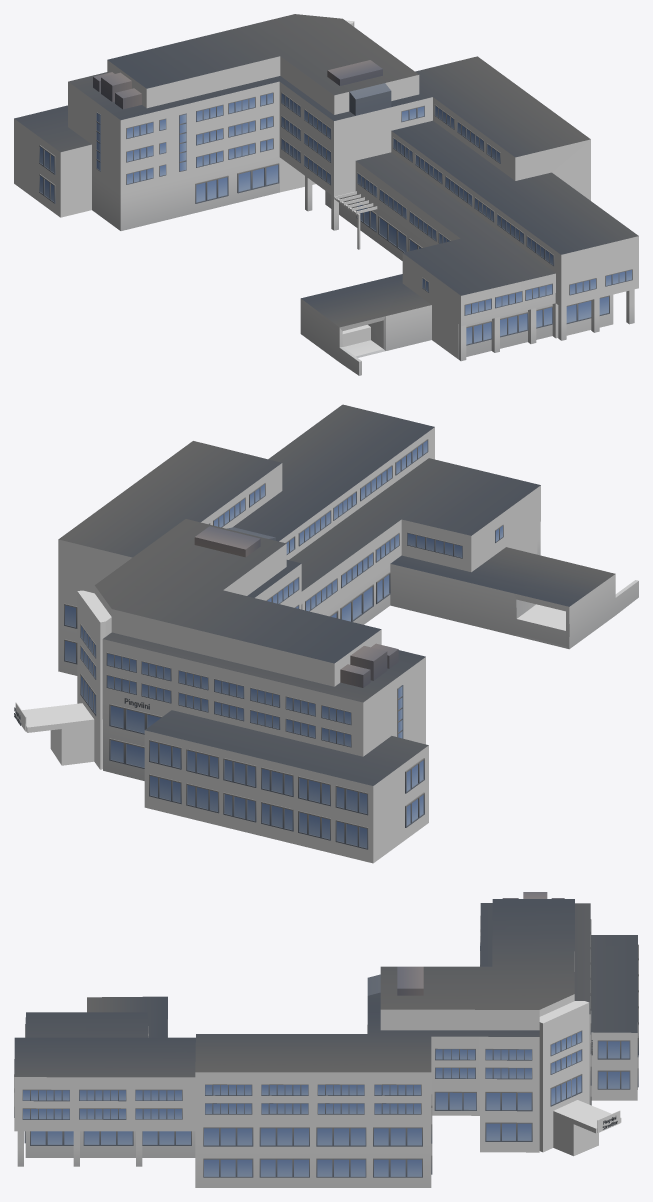
The model's file is pingviini_bar.fbx.
3 views of the same model, one above another, from view 1: azimuth 30°, elevation 25°; view 2: azimuth 150°, elevation 25°; view 3: azimuth 270°, elevation 25° (orthographic). The views are drawn at different scales.
Parts seen in each view (by area): view 1: pingviini_bar; view 2: pingviini_bar; view 3: pingviini_bar.
Part boxes in pixels (left/top/right/bottom): pingviini_bar: left=14, top=14, right=638, bottom=375; pingviini_bar: left=15, top=404, right=638, bottom=863; pingviini_bar: left=14, top=892, right=638, bottom=1187.
Size of the model in its own units: 140 by 50.63 by 199.
